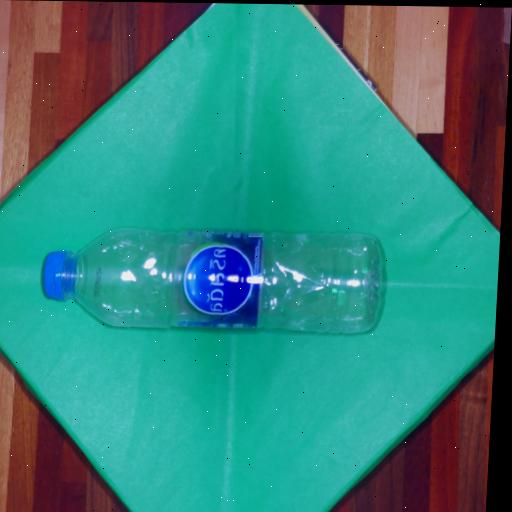bottle: (38, 229, 388, 336)
